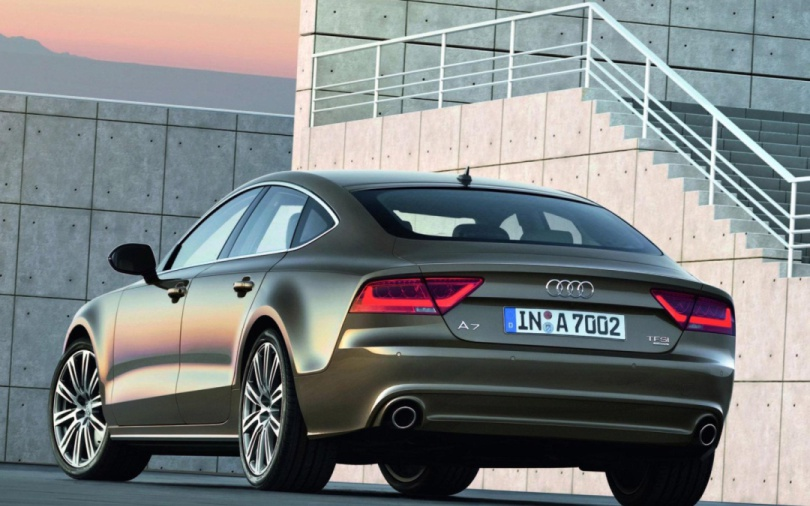audi: (538, 272, 603, 302)
